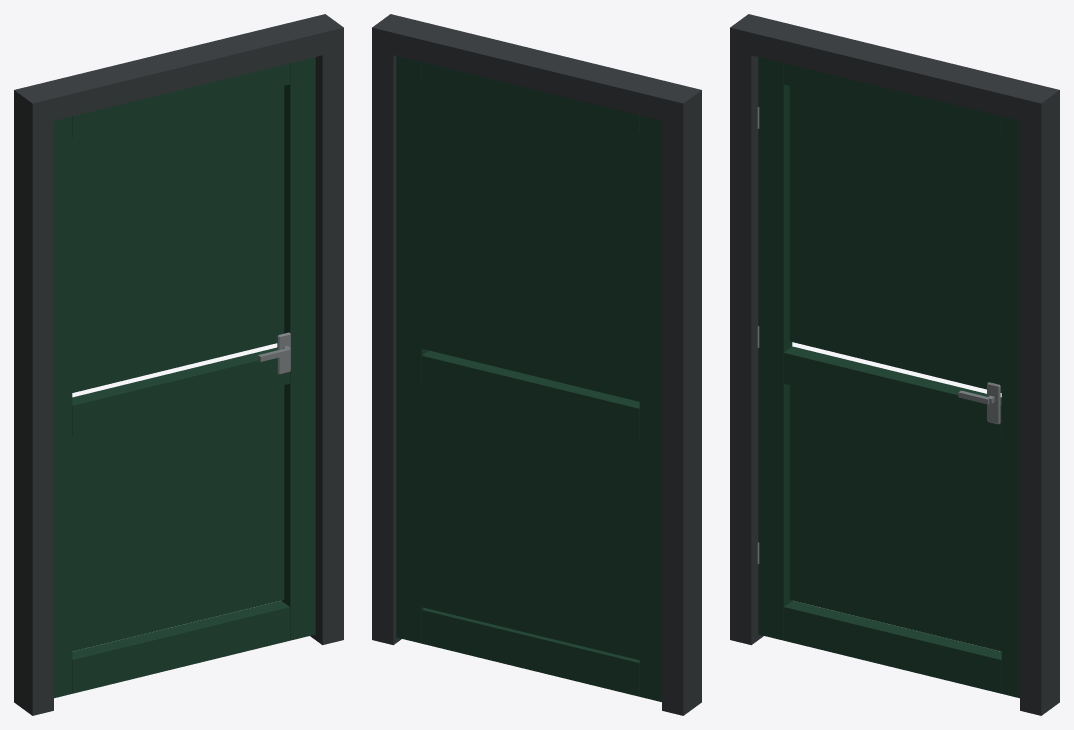
The model's file is door_exit.glb.
3 renders of one model, left to right at view 1: azimuth 30°, elevation 25°; view 2: azimuth 150°, elevation 25°; view 3: azimuth 330°, elevation 25°, orthographic.
Visible parts, largest first — view 1: Panel hundido.001, Panel hundido, Jamba, Jamba.001, Hoja montante.001, Dintel, Hoja montante, Hoja travesaño, Hoja travesaño.001, Hoja travesaño.002; view 2: Panel hundido.001, Panel hundido, Jamba, Jamba.001, Hoja montante.001, Hoja montante, Dintel, Hoja travesaño.001, Hoja travesaño, Hoja travesaño.002; view 3: Panel hundido.001, Panel hundido, Jamba.001, Hoja montante, Jamba, Dintel, Hoja montante.001, Hoja travesaño, Hoja travesaño.001, Hoja travesaño.002.
Part boxes in pixels (x1,y1,x2,y2): Panel hundido.001: [72, 86, 284, 392]; Panel hundido: [72, 385, 284, 651]; Jamba: [14, 85, 53, 715]; Jamba.001: [305, 14, 343, 645]; Hoja montante.001: [281, 57, 315, 640]; Dintel: [25, 17, 333, 122]; Hoja montante: [54, 116, 72, 698]; Hoja travesaño: [72, 600, 289, 693]; Hoja travesaño.001: [72, 347, 289, 436]; Hoja travesaño.002: [72, 63, 289, 137]; Panel hundido.001: [421, 79, 639, 401]; Panel hundido: [421, 385, 639, 660]; Jamba: [662, 85, 701, 715]; Jamba.001: [372, 14, 411, 645]; Hoja montante.001: [396, 56, 428, 643]; Hoja montante: [639, 115, 661, 701]; Dintel: [382, 16, 690, 122]; Hoja travesaño.001: [422, 350, 639, 438]; Hoja travesaño: [422, 608, 639, 696]; Hoja travesaño.002: [422, 62, 639, 140]; Panel hundido.001: [789, 86, 1001, 392]; Panel hundido: [789, 385, 1001, 651]; Jamba.001: [1020, 85, 1059, 715]; Hoja montante: [758, 57, 792, 640]; Jamba: [730, 14, 769, 645]; Dintel: [740, 16, 1048, 122]; Hoja montante.001: [1001, 116, 1019, 698]; Hoja travesaño: [784, 600, 1001, 693]; Hoja travesaño.001: [784, 346, 1001, 436]; Hoja travesaño.002: [784, 63, 1001, 137].
Size of the model in its own units: 1.16 by 2.18 by 0.12.
